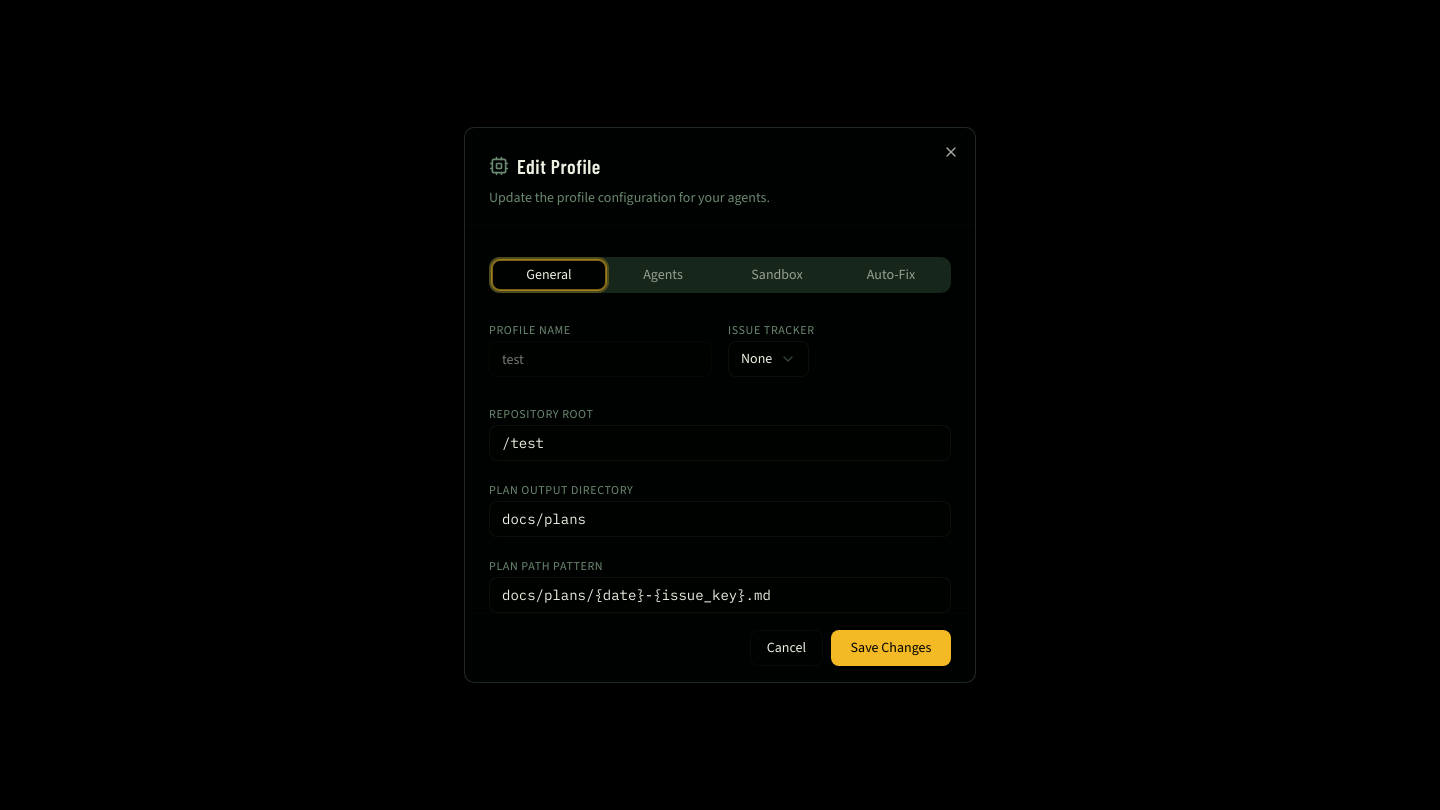
Test case: Sandbox tab › should show container fields when mode is Container
Step 1. Click the tab "Sandbox" → (777, 275), box [720,260,834,290]
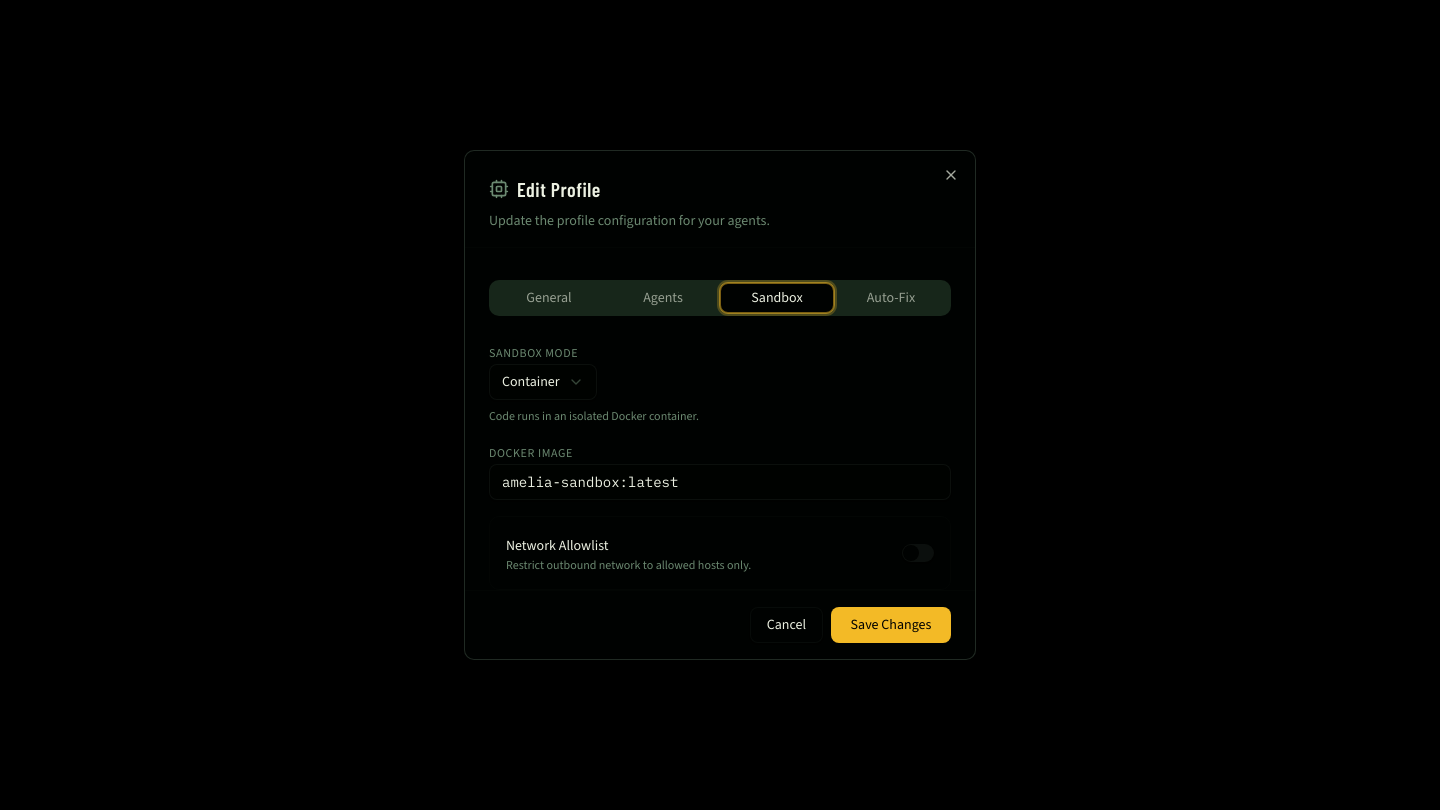
Now the field showing "amelia-sandbox:latest" is shown, box [489,464,951,500]
